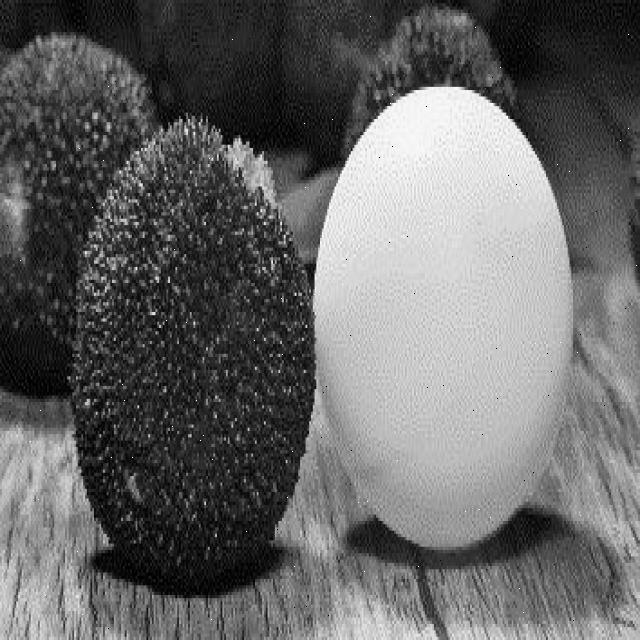ping-pong-ball: (311, 77, 577, 553)
